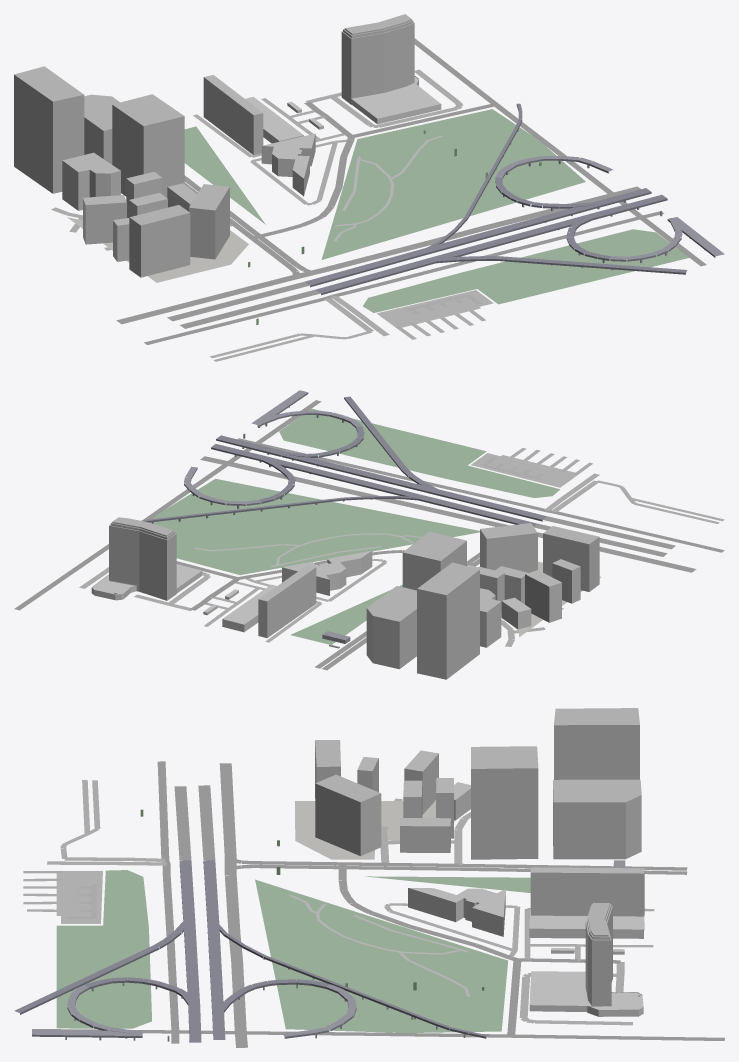
The picture shows the model from 3 angles, top to bottom: view 1: azimuth 30°, elevation 25°; view 2: azimuth 150°, elevation 25°; view 3: azimuth 270°, elevation 25°; orthographic projection. The views are drawn at different scales.
Size of the model in its own units: 598 by 98.7 by 625.
